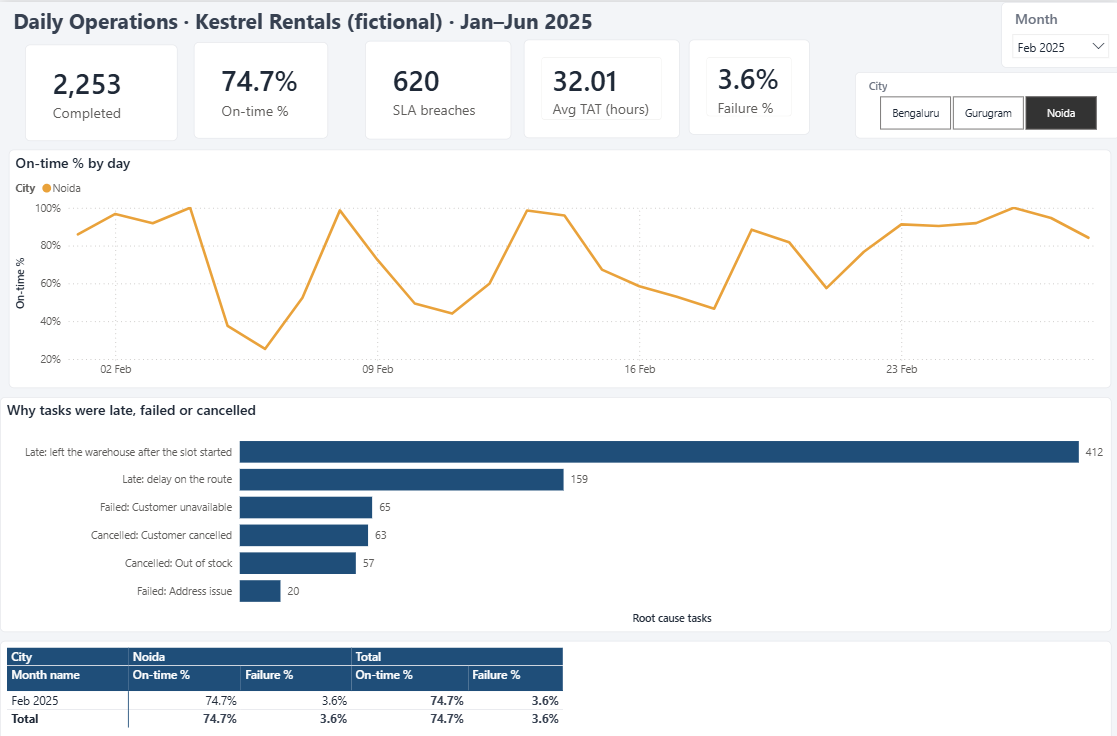

This screenshot's page, from the dashboard's own definition file:
{"tool":"powerbi","page":{"name":"Daily Operations","canvas":[1280,1110],"ordinal":1},"visuals":[{"type":"textbox","box":[10,0,678.9,45.6],"z":0},{"type":"slicer","fields":{"Values":["Months.Month name"]},"box":[1143.8,0,136.2,75],"z":1},{"type":"slicer","fields":{"Values":["Cities.City"]},"box":[977.1,80,302.9,75.7],"z":2},{"type":"cardVisual","fields":{"Data":["_Measures.Completed"]},"box":[28.6,48.6,174.3,110],"z":3},{"type":"cardVisual","fields":{"Data":["_Measures.On-time %"]},"box":[221.2,46.2,153.8,110],"z":4},{"type":"cardVisual","fields":{"Data":["_Measures.Failure %"]},"box":[787.1,42.9,138.6,108.6],"z":5},{"type":"cardVisual","fields":{"Data":["_Measures.SLA breaches"]},"box":[417.5,43.8,167.5,112.5],"z":6},{"type":"cardVisual","fields":{"Data":["_Measures.Avg TAT (hours)"]},"box":[598.6,42.9,178.6,112.9],"z":7},{"type":"lineChart","title":"On-time % by day","fields":{"Category":["Calendar.Date"],"Y":["_Measures.On-time %"],"Series":["Cities.City"]},"box":[10,168.8,1260,272.5],"z":8},{"type":"clusteredBarChart","title":"Why tasks were late, failed or cancelled","fields":{"Category":["root_cause_summary.root_cause"],"Y":["_Measures.Root cause tasks"]},"box":[0,451.4,1270,268.6],"z":9},{"type":"pivotTable","fields":{"Rows":["Months.Month name"],"Columns":["Cities.City"],"Values":["_Measures.On-time %","_Measures.Failure %"]},"box":[0,730,1270,268.6],"z":10}]}

Visuals, with their boxes on the page's 1280x1110 design canvas (x1, y1, x2, y2). These are canvas units, not pixel positions in the 1117x736 screenshot, which may show the page scaled, cropped or inside an application window:
textbox: rect(10, 0, 689, 46)
slicer - Months.Month name: rect(1144, 0, 1280, 75)
slicer - Cities.City: rect(977, 80, 1280, 156)
cardVisual - _Measures.Completed: rect(29, 49, 203, 159)
cardVisual - _Measures.On-time %: rect(221, 46, 375, 156)
cardVisual - _Measures.Failure %: rect(787, 43, 926, 152)
cardVisual - _Measures.SLA breaches: rect(418, 44, 585, 156)
cardVisual - _Measures.Avg TAT (hours): rect(599, 43, 777, 156)
"On-time % by day" lineChart: rect(10, 169, 1270, 441)
"Why tasks were late, failed or cancelled" clusteredBarChart: rect(0, 451, 1270, 720)
pivotTable - Months.Month name x Cities.City: rect(0, 730, 1270, 999)
